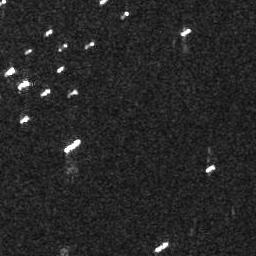ship: (62, 139, 82, 155), (152, 241, 170, 253), (17, 78, 29, 90), (5, 65, 15, 78), (39, 87, 51, 97), (179, 28, 193, 36), (19, 115, 31, 124), (206, 163, 215, 174), (85, 41, 95, 50), (68, 88, 79, 96), (121, 10, 129, 21), (46, 28, 53, 37), (24, 48, 33, 54), (57, 66, 64, 73)
